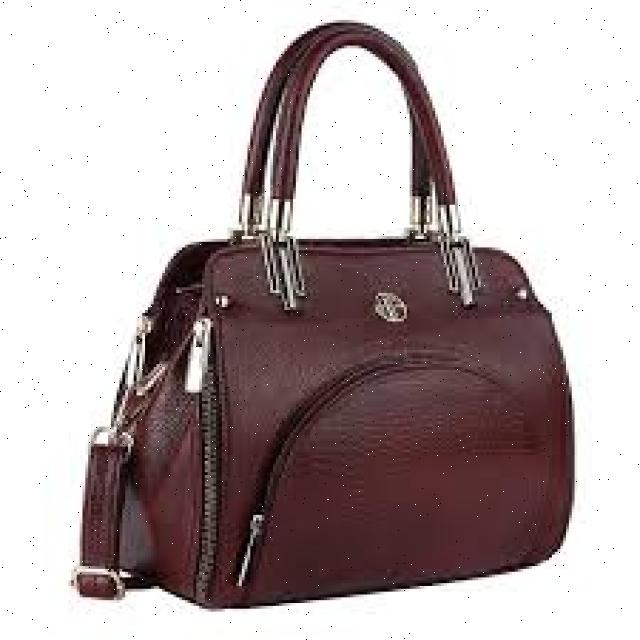handbag: (68, 17, 575, 609)
